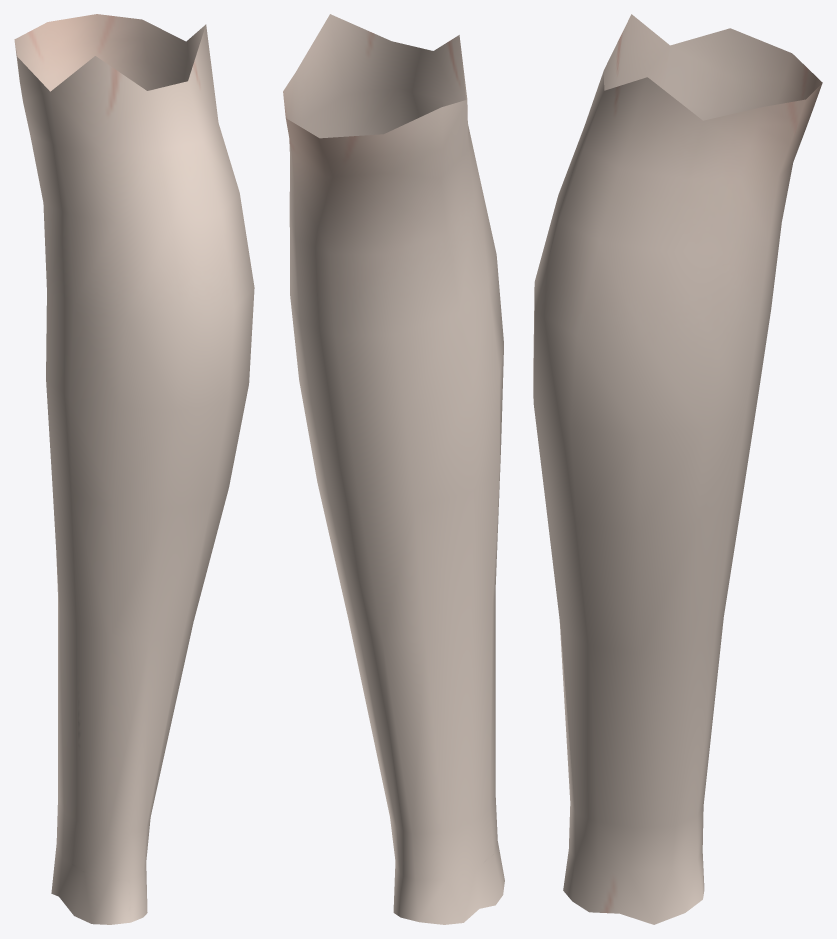
File: tibia_der_yae.obj
3 renders of one model, left to right at view 1: azimuth 30°, elevation 25°; view 2: azimuth 150°, elevation 25°; view 3: azimuth 270°, elevation 25°, orthographic. The views are drawn at different scales.
Visible parts, largest first — view 1: 右ひざD, 肌.008_Материал.020, 右足D; view 2: 右ひざD, 肌.008_Материал.020, 右足D; view 3: 右ひざD, 肌.008_Материал.020, 右足D.
Boxes of the visible parts, <box> form: 右ひざD: <box>14,14,254,833</box>; 肌.008_Материал.020: <box>51,796,150,924</box>; 右足D: <box>14,14,141,79</box>; 右ひざD: <box>283,14,503,833</box>; 肌.008_Материал.020: <box>390,795,504,924</box>; 右足D: <box>283,95,442,159</box>; 右ひざD: <box>533,14,813,827</box>; 肌.008_Материал.020: <box>563,803,704,924</box>; 右足D: <box>727,28,822,123</box>.
Size of the model in its own units: 0.0316 by 0.1494 by 0.0441.
